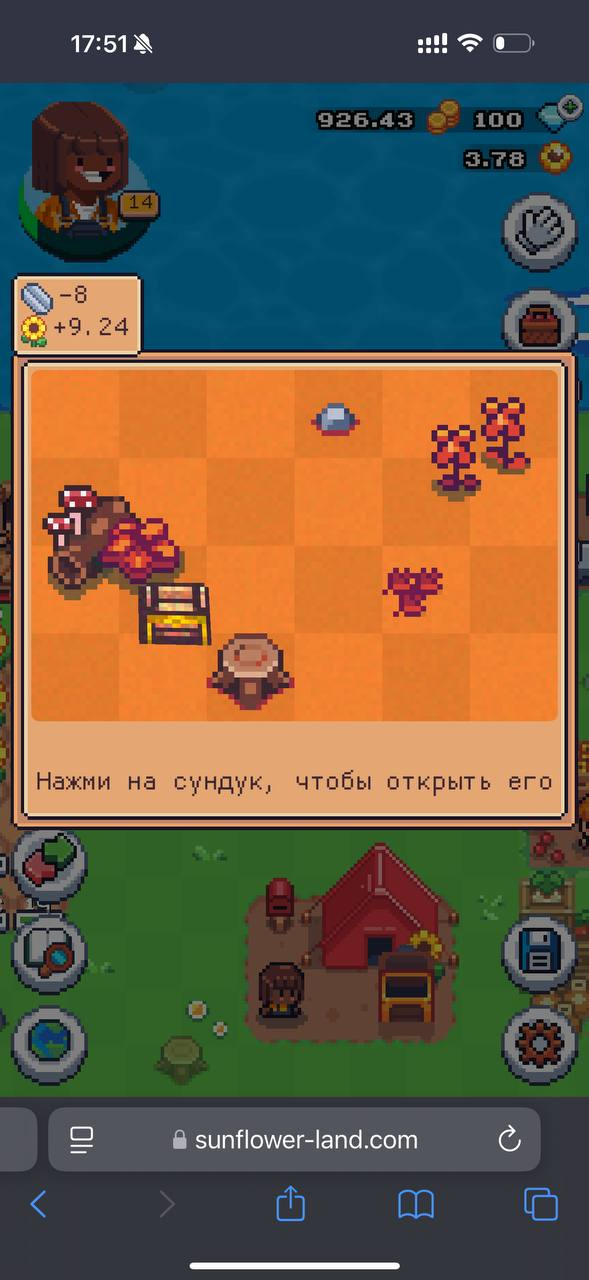capcha_chest: (138, 581, 211, 647)
